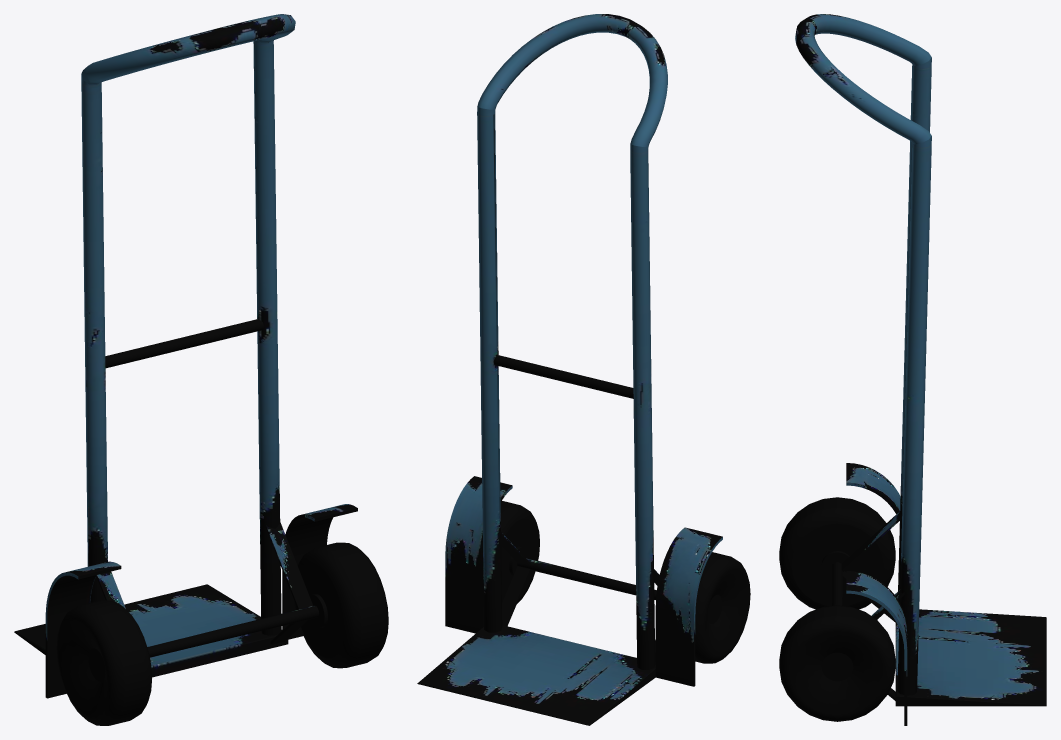
The picture shows the model from 3 angles, left to right: view 1: azimuth 30°, elevation 25°; view 2: azimuth 150°, elevation 25°; view 3: azimuth 270°, elevation 25°; orthographic projection. The views are drawn at different scales.
Visible parts, largest first — view 1: body0_model0_lod0_mesh0; view 2: body0_model0_lod0_mesh0; view 3: body0_model0_lod0_mesh0.
Boxes of the visible parts, <box> form: body0_model0_lod0_mesh0: <box>14,14,388,725</box>; body0_model0_lod0_mesh0: <box>417,14,750,725</box>; body0_model0_lod0_mesh0: <box>779,14,1046,725</box>.
Bounding box in the file's own units: 36.4 × 84.48 × 32.2.
Materials: 1 (1 with a texture image).
